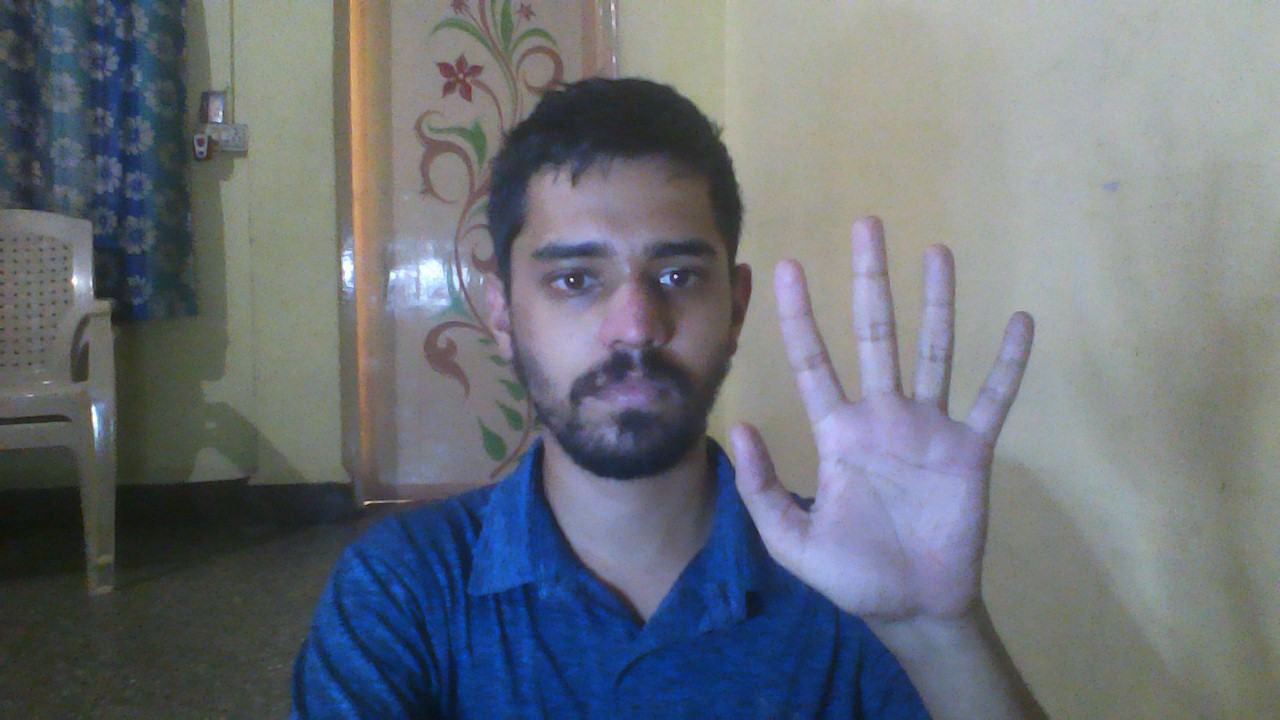hello: (716, 203, 1043, 638)
